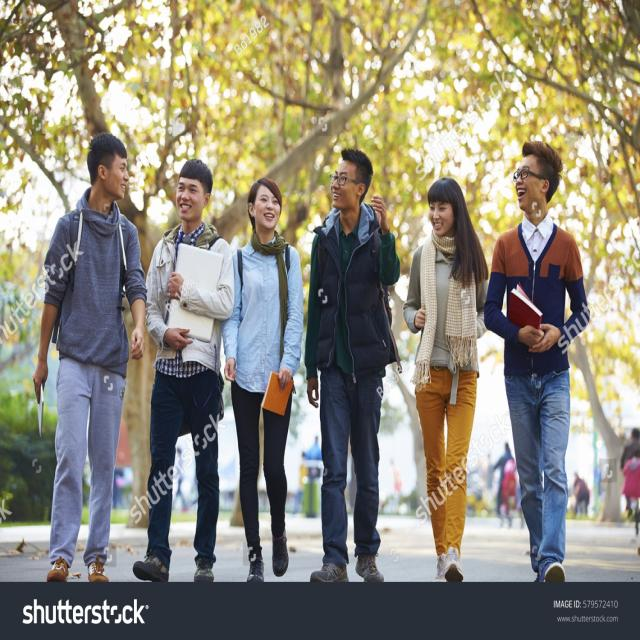body: (30, 129, 150, 586), (482, 139, 592, 582), (130, 156, 237, 586), (111, 430, 615, 521), (302, 146, 402, 589), (401, 175, 492, 589), (217, 175, 305, 585), (619, 427, 640, 512), (621, 450, 640, 514), (499, 457, 519, 517), (491, 441, 516, 483), (301, 436, 322, 478)
